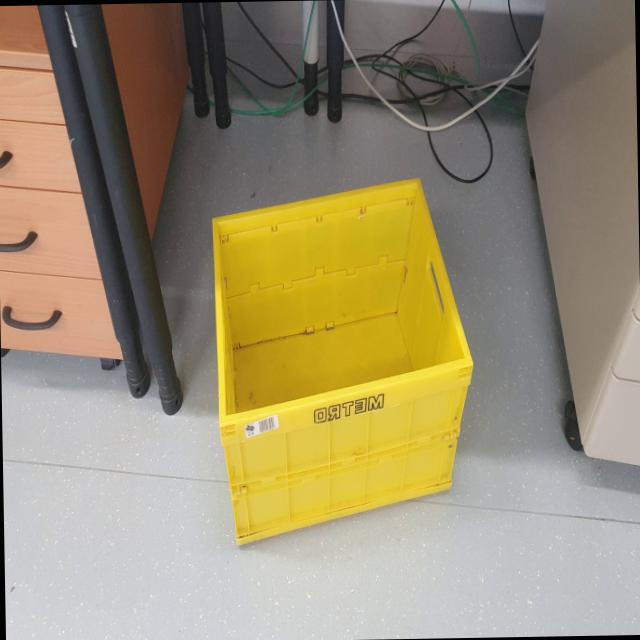box: (204, 162, 486, 552)
